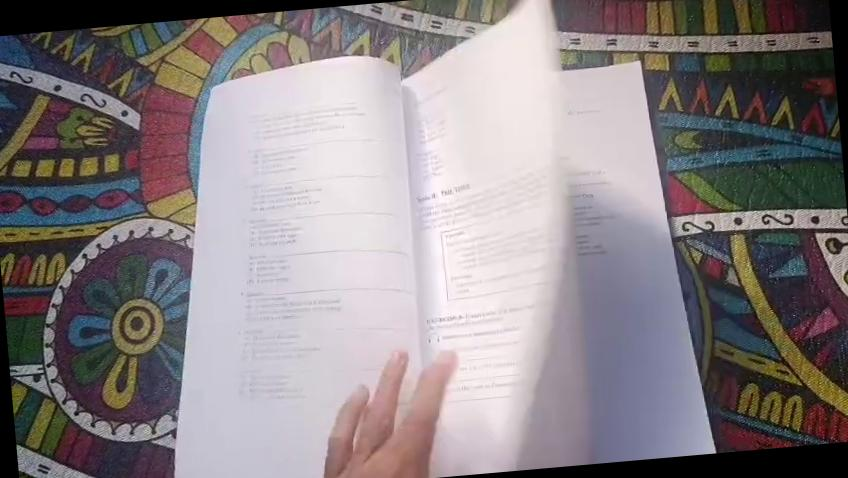Kertas: (212, 62, 534, 360)
